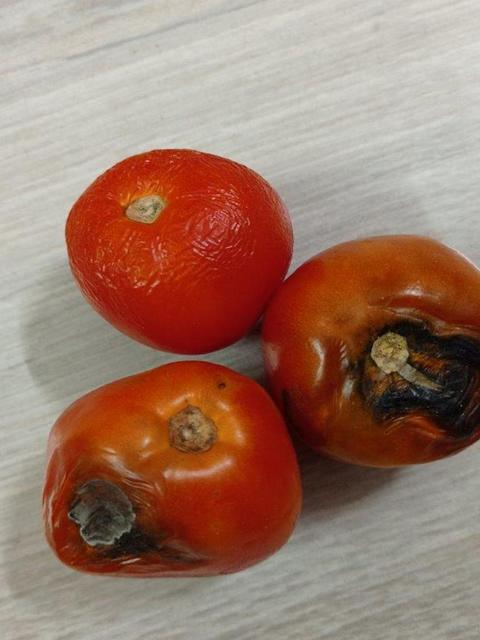defect: (42, 365, 321, 592), (266, 232, 480, 469)
